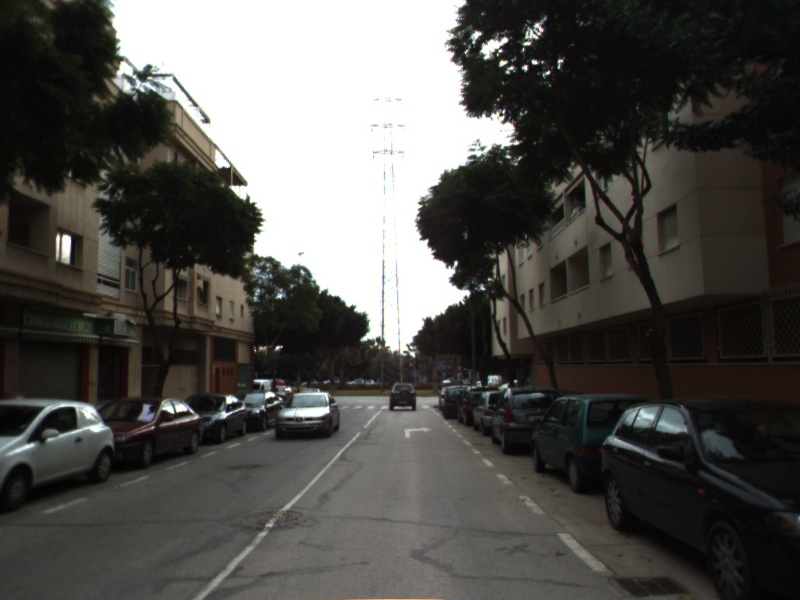RIGHT: (402, 425, 435, 440)
